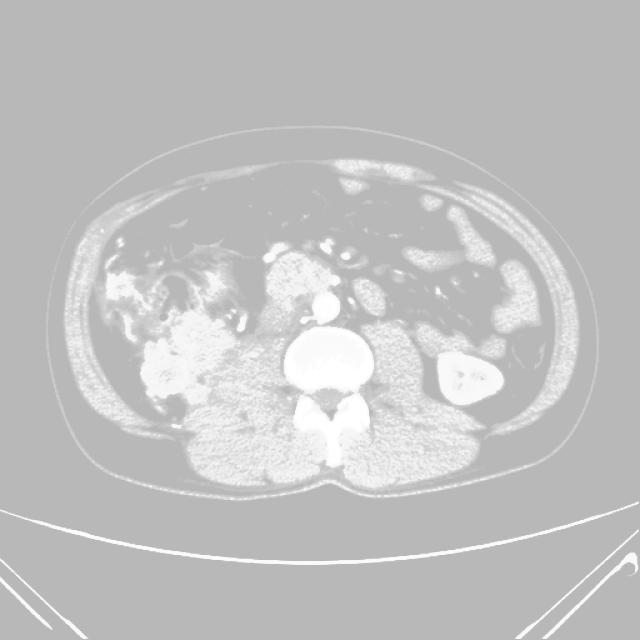TUMOR: (97, 184, 531, 460)
